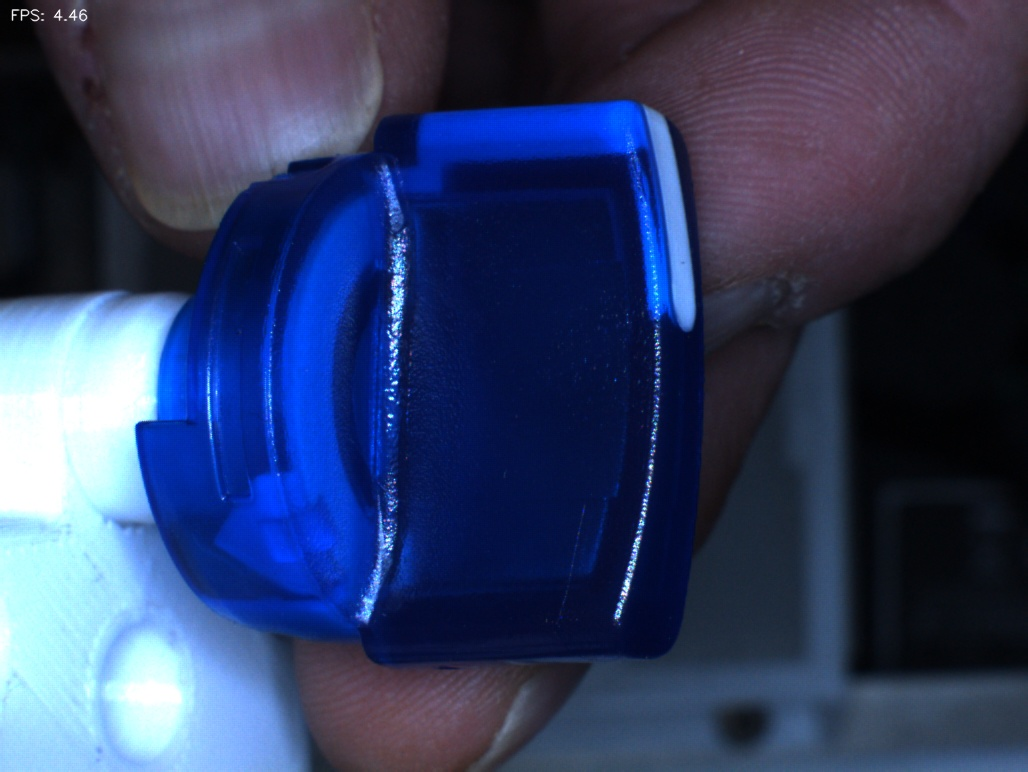Givrage: (523, 483, 617, 639)
